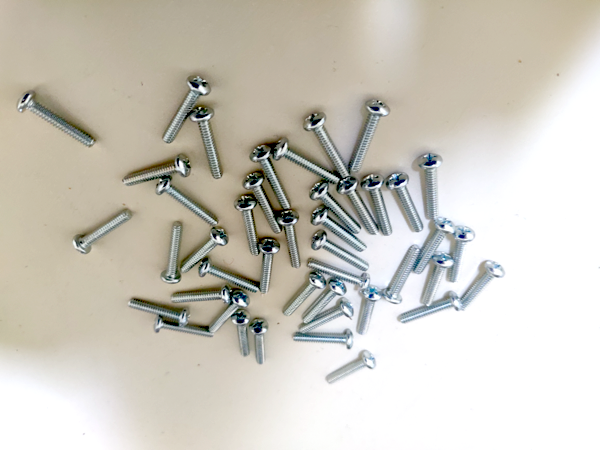longscrew: (20, 96, 99, 148), (159, 73, 212, 145), (306, 114, 353, 177), (156, 179, 219, 226), (191, 107, 231, 178), (254, 142, 297, 208), (73, 209, 132, 256), (312, 206, 368, 255), (275, 141, 337, 184), (350, 100, 388, 170), (312, 184, 365, 234), (307, 231, 369, 273), (248, 174, 286, 236), (338, 180, 380, 236), (461, 261, 502, 315), (304, 258, 369, 291), (120, 155, 191, 185), (415, 221, 453, 276), (390, 175, 427, 231), (203, 263, 260, 299), (400, 292, 461, 325), (184, 228, 229, 272), (128, 297, 193, 327), (387, 245, 421, 302), (302, 281, 346, 325), (296, 302, 354, 335), (417, 154, 446, 219), (448, 219, 474, 288), (204, 293, 251, 331), (281, 275, 325, 315), (418, 256, 453, 306), (279, 209, 306, 270), (236, 195, 262, 257), (330, 354, 374, 389), (154, 317, 213, 343), (367, 174, 391, 237), (163, 222, 184, 282), (292, 332, 353, 352), (168, 287, 231, 305), (232, 312, 256, 358), (250, 319, 272, 365), (361, 288, 378, 336), (260, 239, 274, 295)
